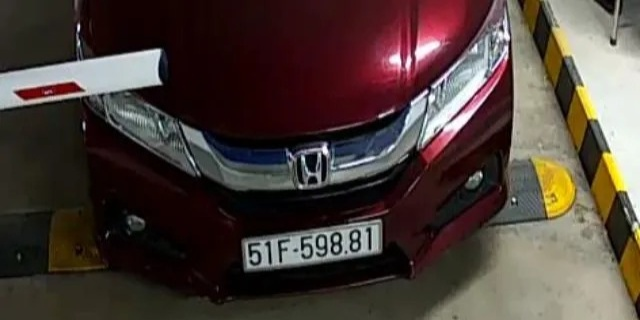bien_so: (242, 227, 380, 265)
